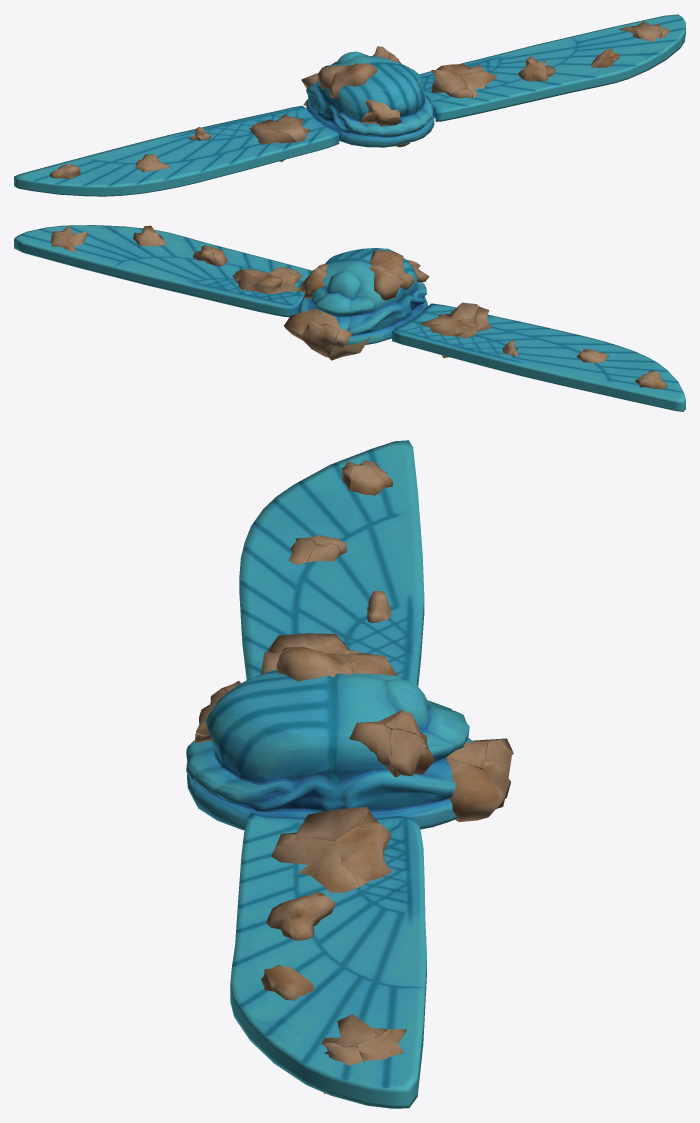
The model's file is Scarab_V1.fbx.
The picture shows the model from 3 angles, top to bottom: view 1: azimuth 30°, elevation 25°; view 2: azimuth 150°, elevation 25°; view 3: azimuth 270°, elevation 25°; orthographic projection. The views are drawn at different scales.
Visible parts, largest first — view 1: Left_Wing, Right_Wing, Scarab_Full, Dirt_Jar_3_cell.001, Dirt_Jar_1_cell.004, Dirt_Jar_1_1_cell.001, Dirt_Jar_1_cell.003, Dirt_Jar_1_1_cell, Dirt_Jar_4_1_cell, Dirt_Jar_4_cell.001, Dirt_Jar_3_cell.002, Dirt_Jar_5_cell.002 (+2 smaller); view 2: Left_Wing, Right_Wing, Scarab_Full, Dirt_Jar_2_1_cell.001, Dirt_Jar_3_cell.002, Dirt_Jar_3_cell.001, Dirt_Jar_1_1_cell.001, Dirt_Jar_2_1_cell, Dirt_Jar_1_1_cell.002, Dirt_Jar_2_1_cell.002, Dirt_Jar_1_cell.002, Dirt_Jar_1_cell.004 (+6 smaller); view 3: Right_Wing, Scarab_Full, Left_Wing, Dirt_Jar_1_cell.003, Dirt_Jar_2_1_cell.002, Dirt_Jar_1_cell.002, Dirt_Jar_3_cell, Dirt_Jar_1_cell.004, Dirt_Jar_6_2_cell.001, Dirt_Jar_5_cell.001, Dirt_Jar_6_2_cell.002, Dirt_Jar_6_3_cell.002 (+4 smaller).
Boxes of the visible parts, box(x1,y1,x2,y2) form: Left_Wing: box(14, 105, 339, 196); Right_Wing: box(419, 14, 685, 121); Scarab_Full: box(306, 51, 434, 147); Dirt_Jar_3_cell.001: box(328, 65, 367, 98); Dirt_Jar_1_cell.004: box(431, 70, 466, 95); Dirt_Jar_1_1_cell.001: box(273, 115, 310, 142); Dirt_Jar_1_cell.003: box(461, 70, 496, 97); Dirt_Jar_1_1_cell: box(249, 127, 294, 162); Dirt_Jar_4_1_cell: box(359, 110, 401, 126); Dirt_Jar_4_cell.001: box(624, 26, 661, 41); Dirt_Jar_3_cell.002: box(317, 65, 345, 89); Dirt_Jar_5_cell.002: box(518, 63, 543, 81); Left_Wing: box(392, 303, 685, 411); Right_Wing: box(14, 225, 312, 317); Scarab_Full: box(298, 248, 427, 344); Dirt_Jar_2_1_cell.001: box(301, 320, 338, 357); Dirt_Jar_3_cell.002: box(374, 269, 401, 300); Dirt_Jar_3_cell.001: box(370, 254, 414, 290); Dirt_Jar_1_1_cell.001: box(420, 302, 478, 327); Dirt_Jar_2_1_cell: box(329, 331, 370, 360); Dirt_Jar_1_1_cell.002: box(429, 318, 476, 336); Dirt_Jar_2_1_cell.002: box(284, 308, 316, 342); Dirt_Jar_1_cell.002: box(235, 269, 271, 290); Dirt_Jar_1_cell.004: box(270, 269, 302, 291); Right_Wing: box(230, 813, 426, 1108); Scarab_Full: box(186, 669, 485, 830); Left_Wing: box(239, 440, 424, 685); Dirt_Jar_1_cell.003: box(271, 837, 360, 892); Dirt_Jar_2_1_cell.002: box(447, 758, 505, 822); Dirt_Jar_1_cell.002: box(335, 827, 392, 886); Dirt_Jar_3_cell: box(279, 646, 351, 681); Dirt_Jar_1_cell.004: box(295, 807, 369, 841); Dirt_Jar_6_2_cell.001: box(391, 729, 434, 777); Dirt_Jar_5_cell.001: box(288, 891, 335, 940); Dirt_Jar_6_2_cell.002: box(349, 722, 393, 775); Dirt_Jar_6_3_cell.002: box(264, 965, 314, 1000).
Size of the model in its own units: 207 by 23.04 by 44.28.
Materials: 2 (2 with a texture image).
